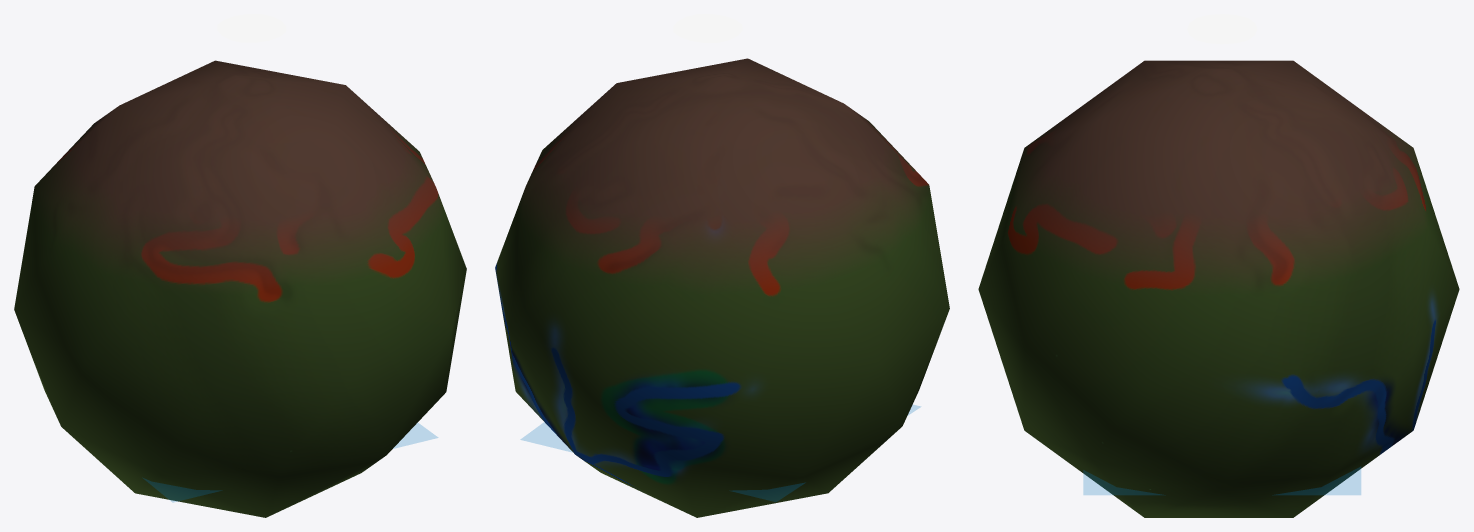
The model's file is Capstone_planet.glb.
3 renders of one model, left to right at view 1: azimuth 30°, elevation 25°; view 2: azimuth 150°, elevation 25°; view 3: azimuth 270°, elevation 25°, orthographic. The views are drawn at different scales.
Parts seen in each view (by area): view 1: Icosphere.001, Plane.003, Plane; view 2: Icosphere.001, Plane.003, Plane; view 3: Icosphere.001, Plane.003, Plane.
Part boxes in pixels (x1,y1,x2,y2): Icosphere.001: (14, 60, 466, 517); Plane.003: (217, 14, 286, 42); Plane: (143, 423, 437, 502); Icosphere.001: (495, 58, 949, 517); Plane.003: (673, 14, 742, 42); Plane: (521, 405, 920, 501); Icosphere.001: (978, 60, 1459, 517); Plane.003: (1187, 14, 1257, 44); Plane: (1083, 467, 1360, 494).
Bounding box in the file's own units: 1.9 × 2.22 × 2.
Materials: 3 (1 with a texture image).
